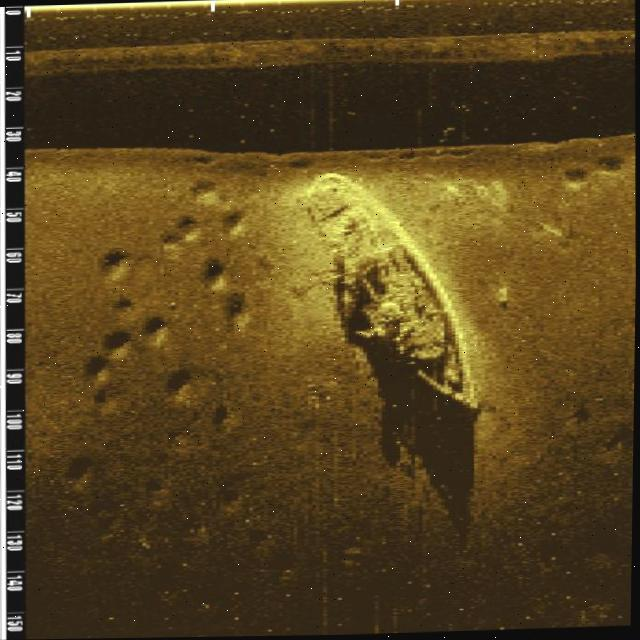shipwreck: (303, 168, 491, 416)
